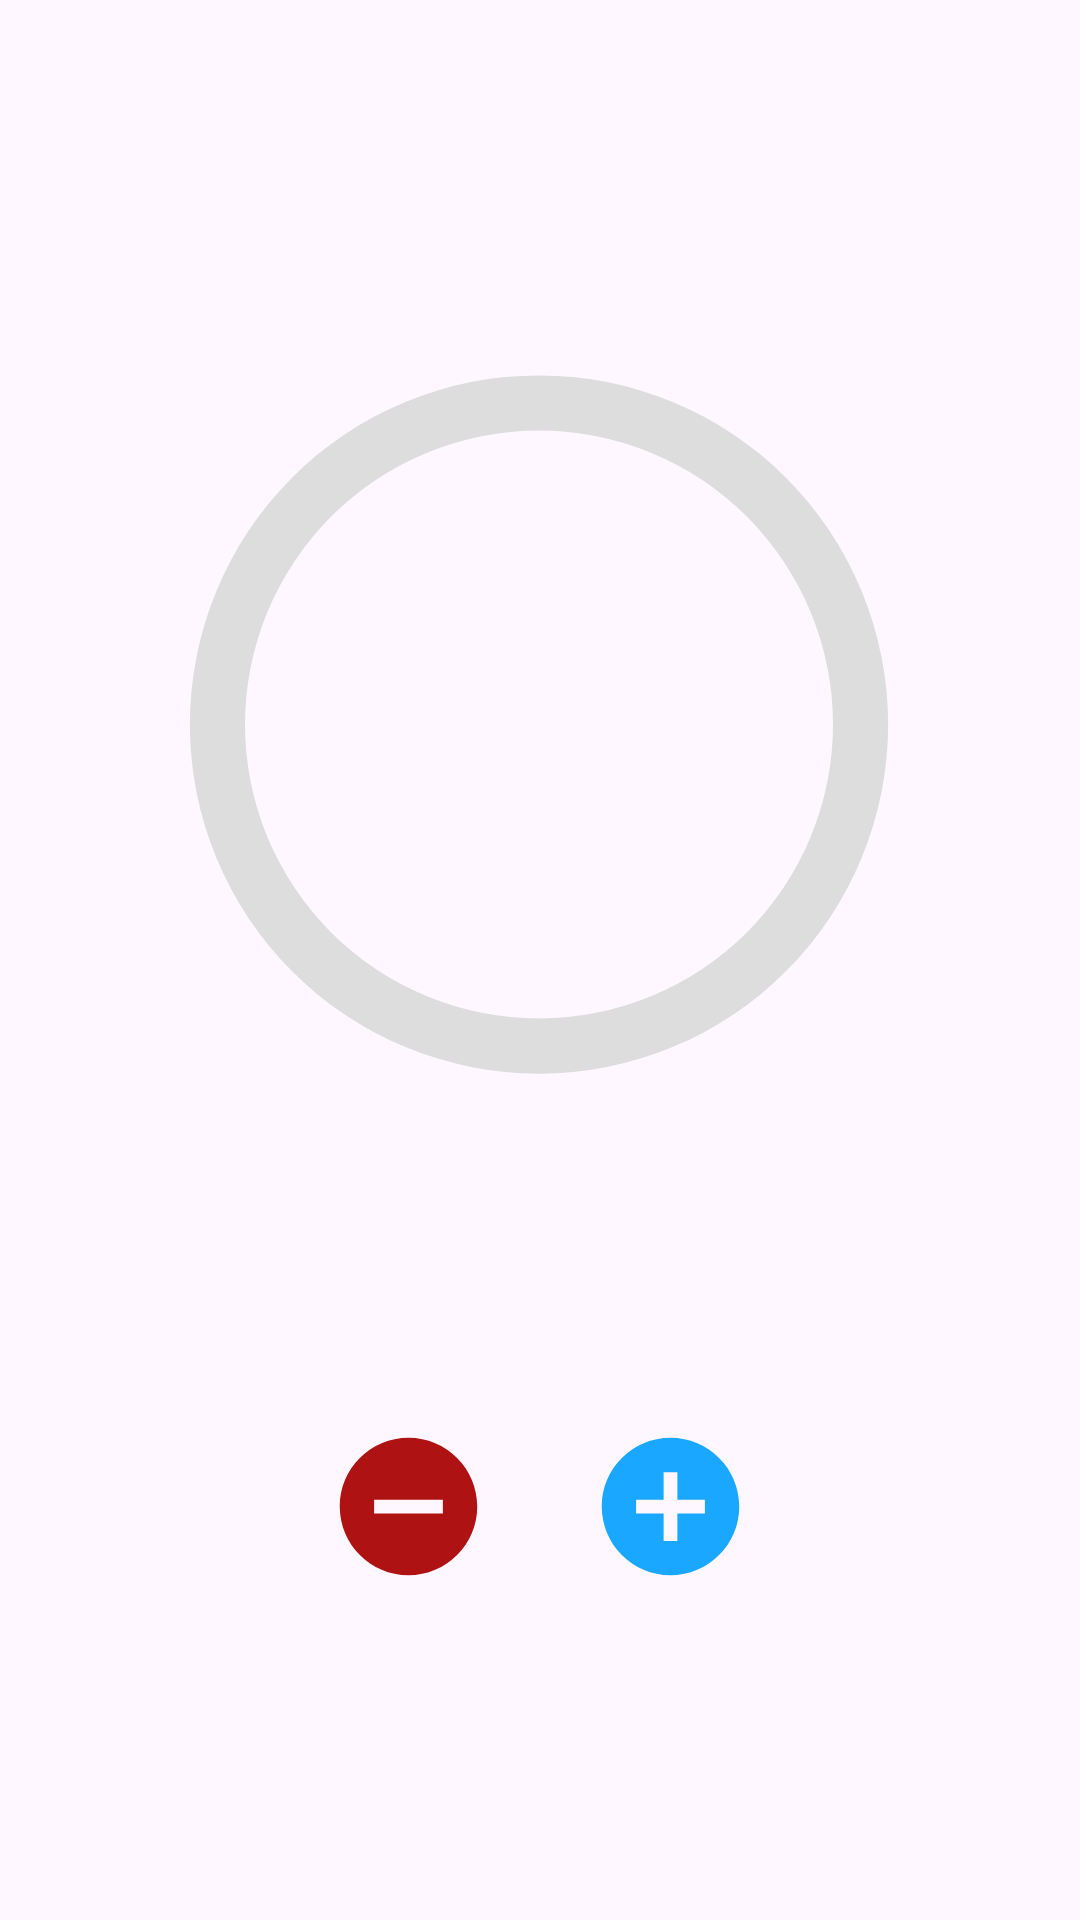

Icon click points for this 1080x1920 phone screenshot, format (x,y):
add water: (670,1506)
water minus: (408,1506)
